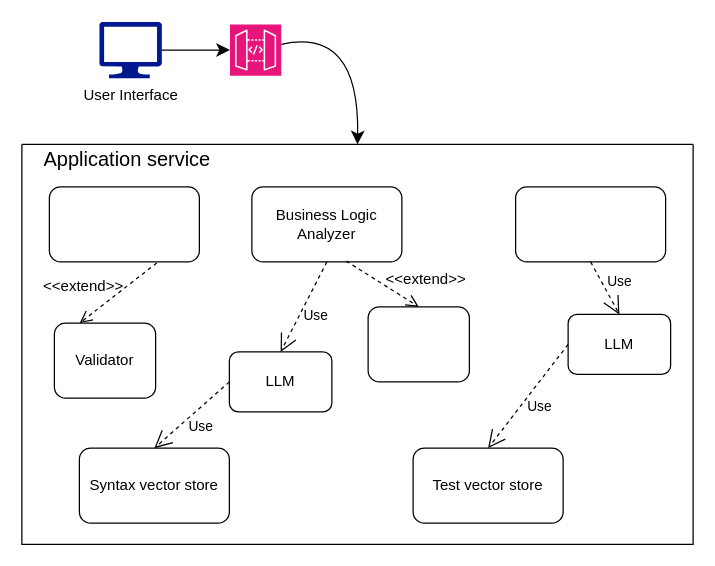
Some shapes in this 715 by 566 pixel diagram are drawn without their labels. Here are the shapes that lost their labels. From the top down, the centre of each, then its label:
At point 255,49: "Api Gateway".
At point 123,224: "Project manager".
At point 590,224: "Test Generator".
At point 418,344: "Framework anayzer".
